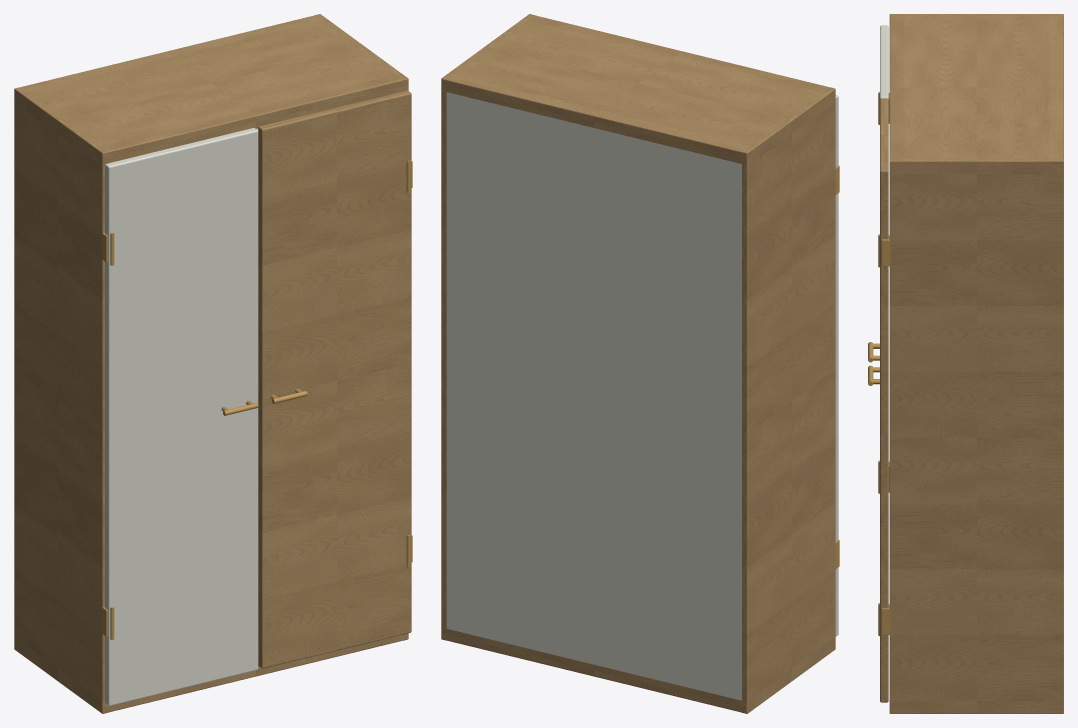
The model's file is two-door-wardrobe-original-interior-furnishing.glb.
The picture shows the model from 3 angles, left to right: view 1: azimuth 30°, elevation 25°; view 2: azimuth 150°, elevation 25°; view 3: azimuth 270°, elevation 25°; orthographic projection.
Visible parts, largest first — view 1: Wardrobe door.001, Wardrobe door, Cabinet side, Cabinet top bottom.001, Cabinet top bottom; view 2: Cabinet back, Cabinet side, Cabinet top bottom.001, Cabinet top bottom, Cabinet side.001, Wardrobe door; view 3: Cabinet side.001, Cabinet top bottom.001, Wardrobe door.001, Wardrobe door, Cabinet side.
Boxes of the visible parts, x1,y1,x2,y2 form: Wardrobe door.001: (258, 90, 411, 668); Wardrobe door: (105, 128, 258, 706); Cabinet side: (14, 87, 108, 713); Cabinet top bottom.001: (20, 15, 407, 164); Cabinet top bottom: (103, 633, 407, 712); Cabinet back: (446, 92, 741, 700); Cabinet side: (741, 87, 835, 713); Cabinet top bottom.001: (442, 15, 829, 164); Cabinet top bottom: (442, 627, 746, 712); Cabinet side.001: (441, 14, 534, 640); Wardrobe door: (835, 95, 838, 636); Cabinet side.001: (889, 158, 1063, 713); Cabinet top bottom.001: (889, 16, 1063, 158); Wardrobe door.001: (880, 99, 888, 702); Wardrobe door: (880, 25, 888, 99); Cabinet side: (889, 14, 1063, 16).
Bounding box in the file's own units: 1.2 × 2.1 × 0.674.
3 materials, 3 textured.
